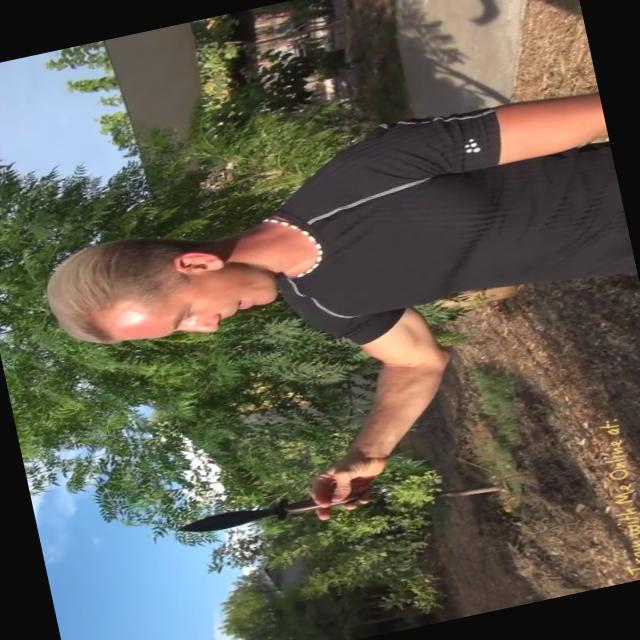knife: (165, 478, 318, 552)
